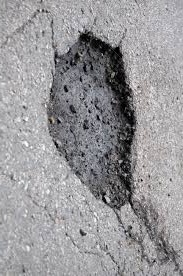pothole: (46, 30, 138, 207)
